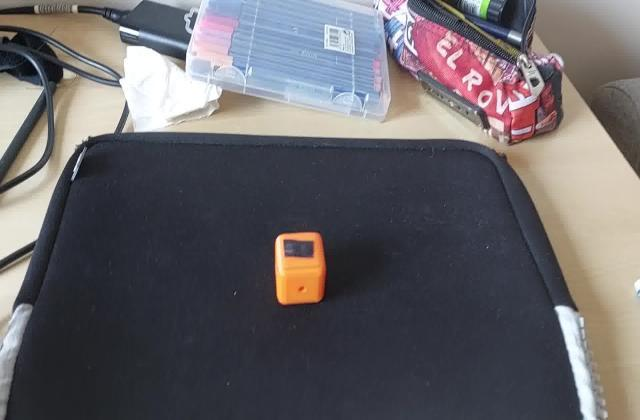black: (281, 236, 319, 261)
cube: (271, 231, 329, 307)
